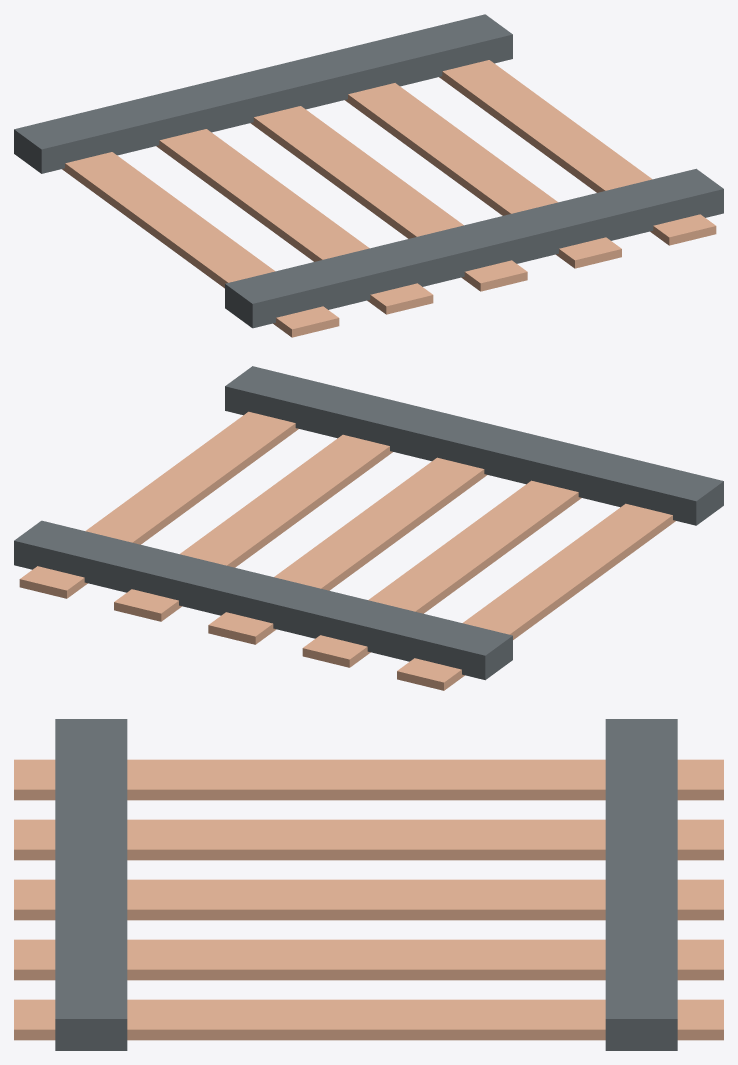
File: rail.fbx
3 views of the same model, one above another, from view 1: azimuth 30°, elevation 25°; view 2: azimuth 150°, elevation 25°; view 3: azimuth 270°, elevation 25° (orthographic). The views are drawn at different scales.
Parts seen in each view (by area): view 1: rail; view 2: rail; view 3: rail.
Boxes of the visible parts, x1=… form: rail: x1=14, y1=14, x2=723, y2=337; rail: x1=14, y1=366, x2=723, y2=690; rail: x1=14, y1=719, x2=723, y2=1050.
Size of the model in its own units: 100 by 5.65 by 100.
